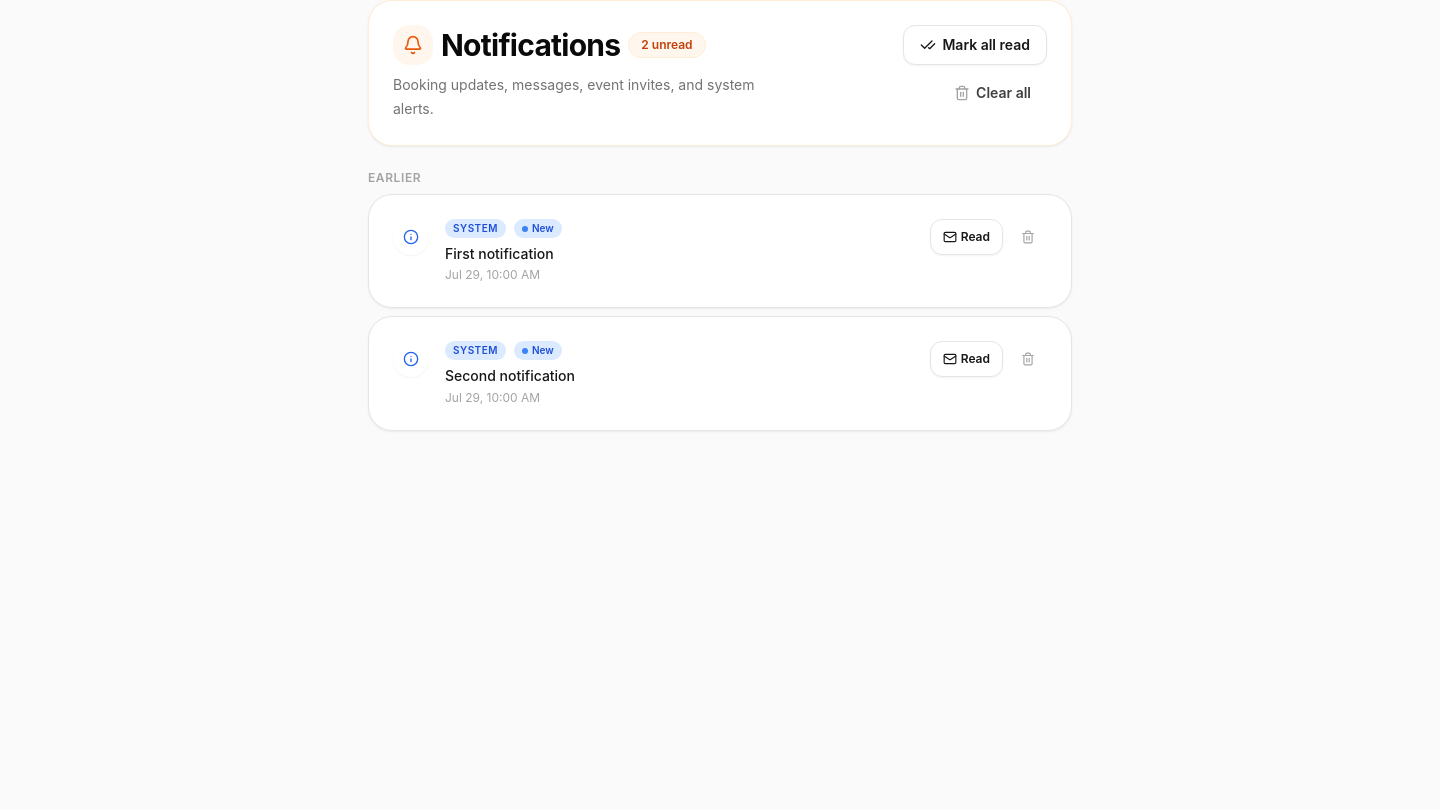
Test: NotificationsPage account isolation › requires confirmation before clearing and cancel keeps notifications
The width and height of the screenshot is (1440, 810).
Expected: the text "First notification" is shown, [445, 245, 554, 262]
Click the button "Clear all": point(993, 93) [938, 73, 1047, 113]
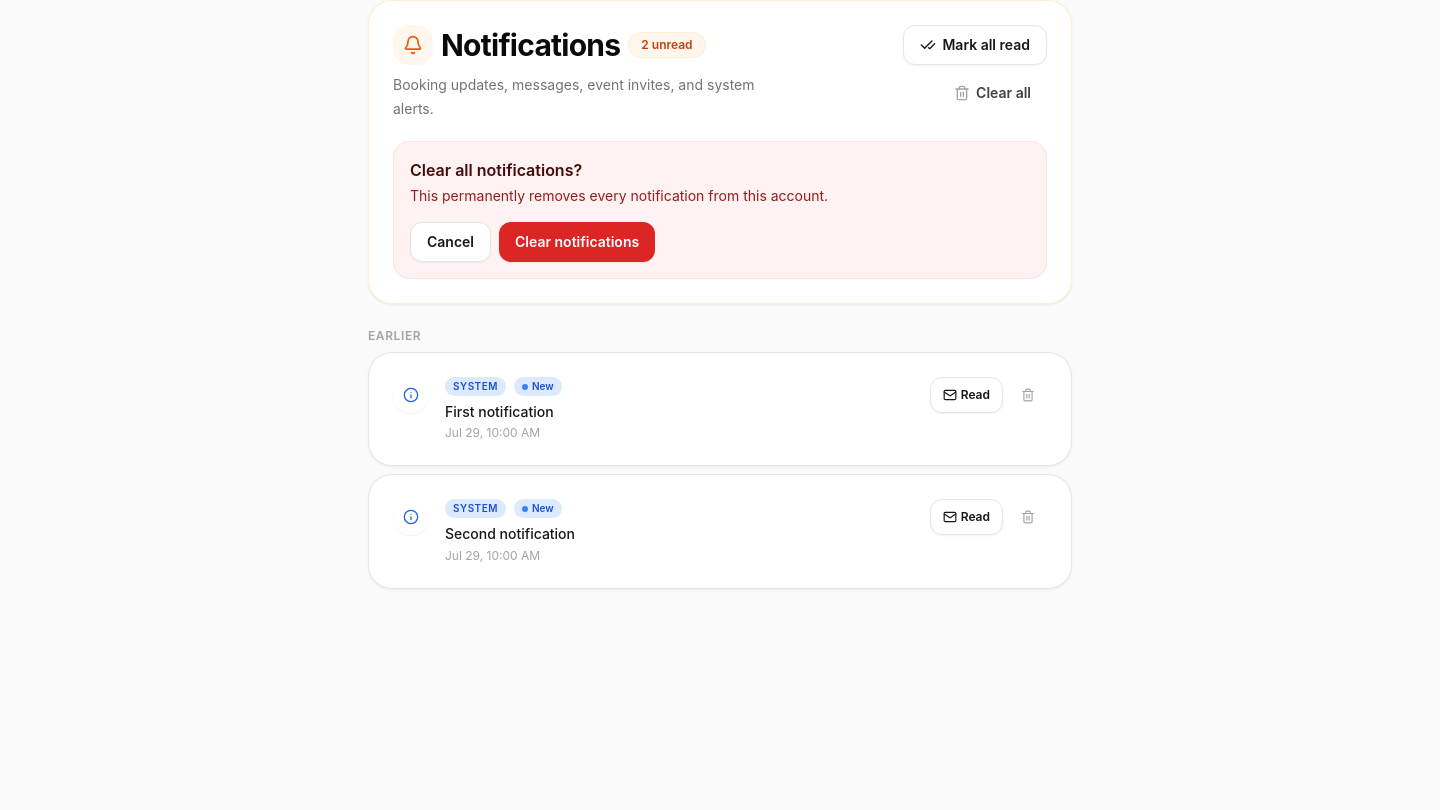
Expected: the dialog "Clear all notifications?" is shown, [393, 141, 1047, 279]
Click the button "Cancel": point(450, 242) [410, 222, 491, 262]
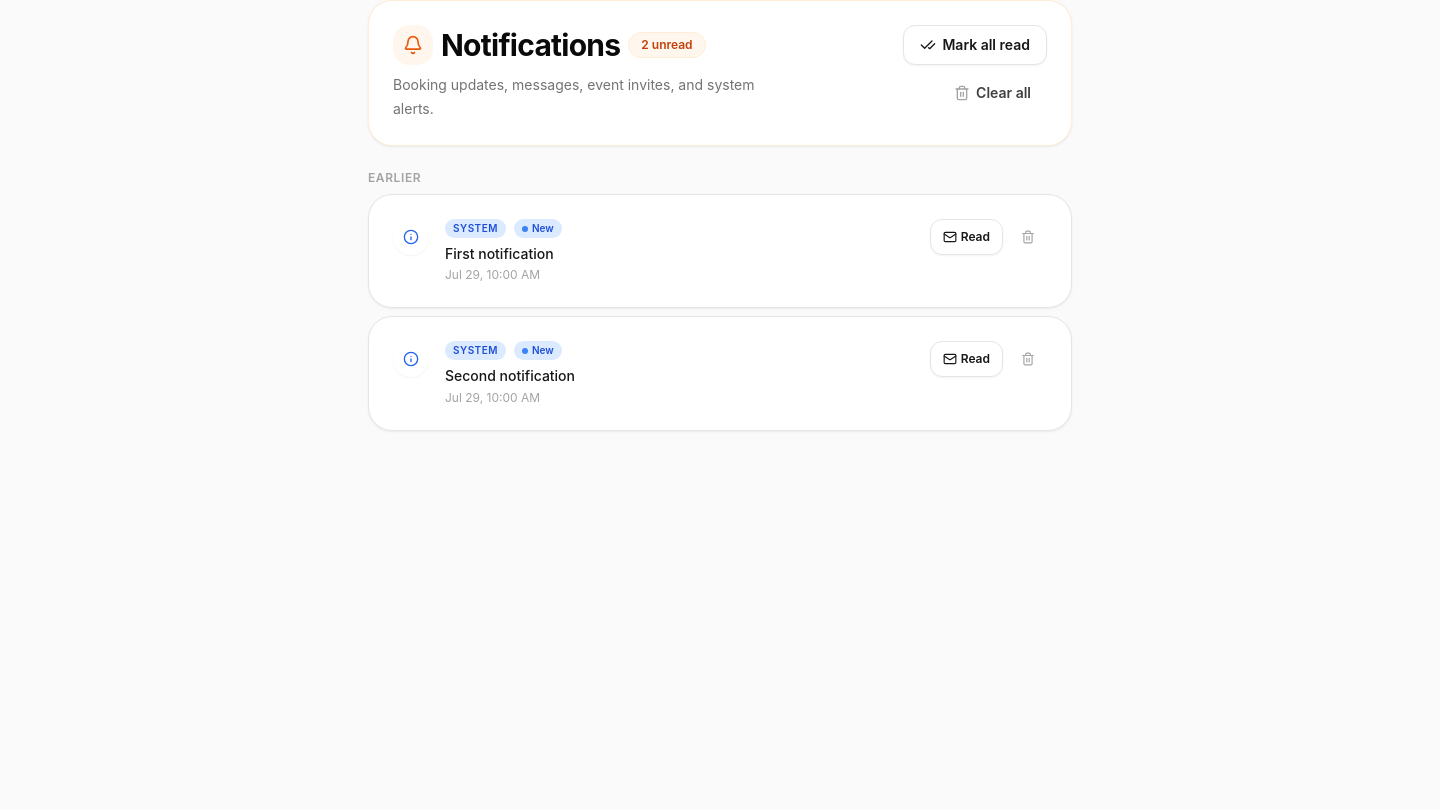
Expected: the text "First notification" is shown, [445, 245, 554, 262]
Expected: the heading "Clear all notifications?" is gone
